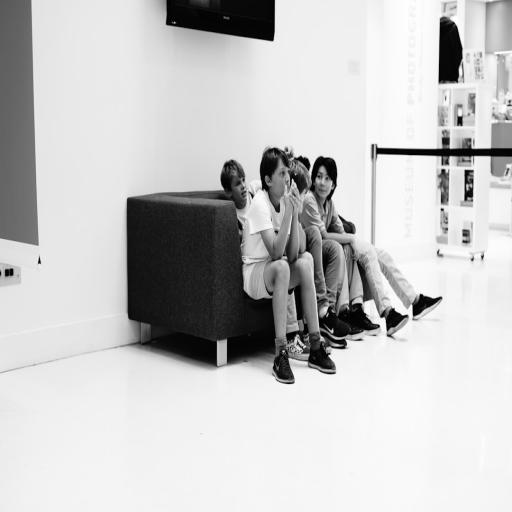face: (314, 166, 334, 200), (274, 162, 292, 196), (232, 171, 249, 202)
